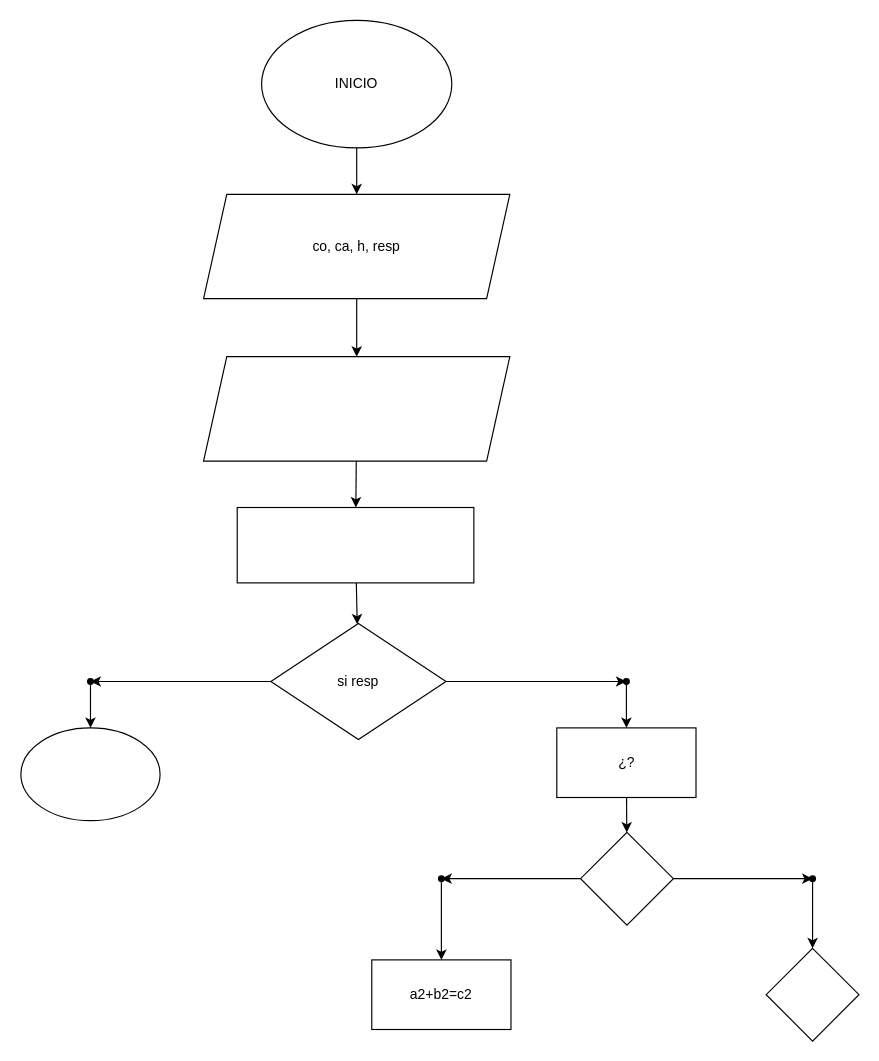
The diagram is 879 pixels wide and 1061 high, and some of its shapes have lost their labels. Each missing label, with the centre of its shape:
"fin" belongs at (x=90, y=774).
"ingresa los valores que conoces (co, ca, h)" belongs at (x=356, y=408).
"¿tienes dos lados de un triangulo rectangulo?" belongs at (x=355, y=544).
